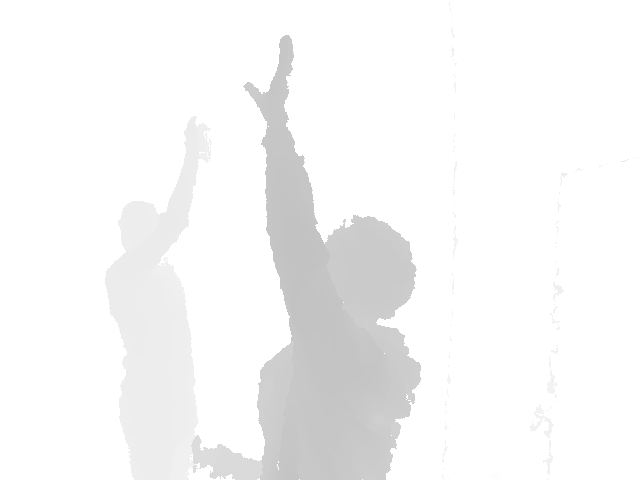hand: (242, 33, 294, 126), (183, 116, 213, 166)
head: (321, 214, 415, 331), (117, 200, 163, 264)
person: (191, 33, 423, 480), (104, 116, 214, 480)
